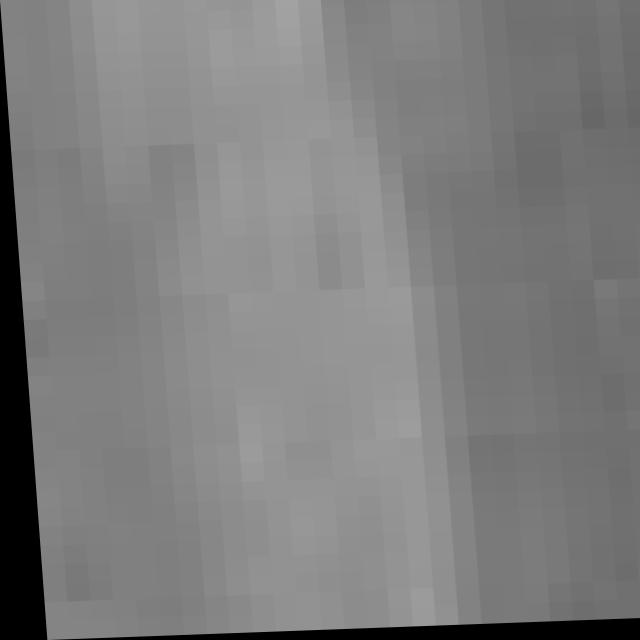fracture: (0, 0, 640, 626)
